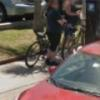bicycles: (24, 18, 70, 68)
